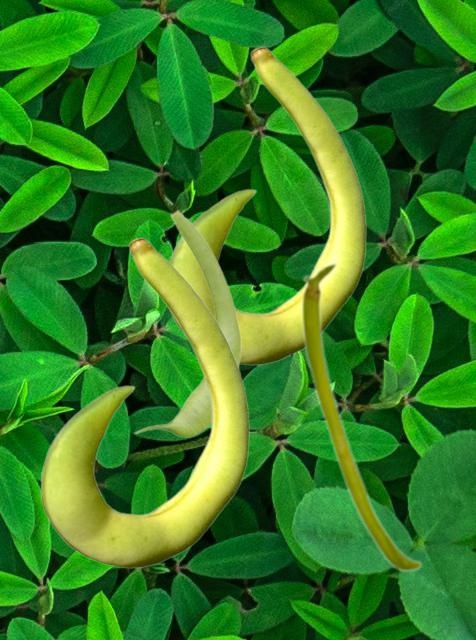french_bean: (40, 237, 249, 567), (165, 46, 366, 364), (300, 261, 422, 572), (133, 208, 241, 436)
